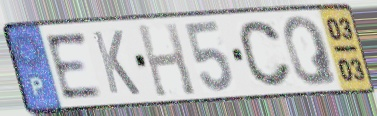5: (182, 19, 237, 95)
C: (237, 19, 295, 90)
E: (42, 29, 106, 103)
H: (134, 21, 199, 100)
K: (90, 28, 143, 97)
Q: (280, 14, 341, 88)
